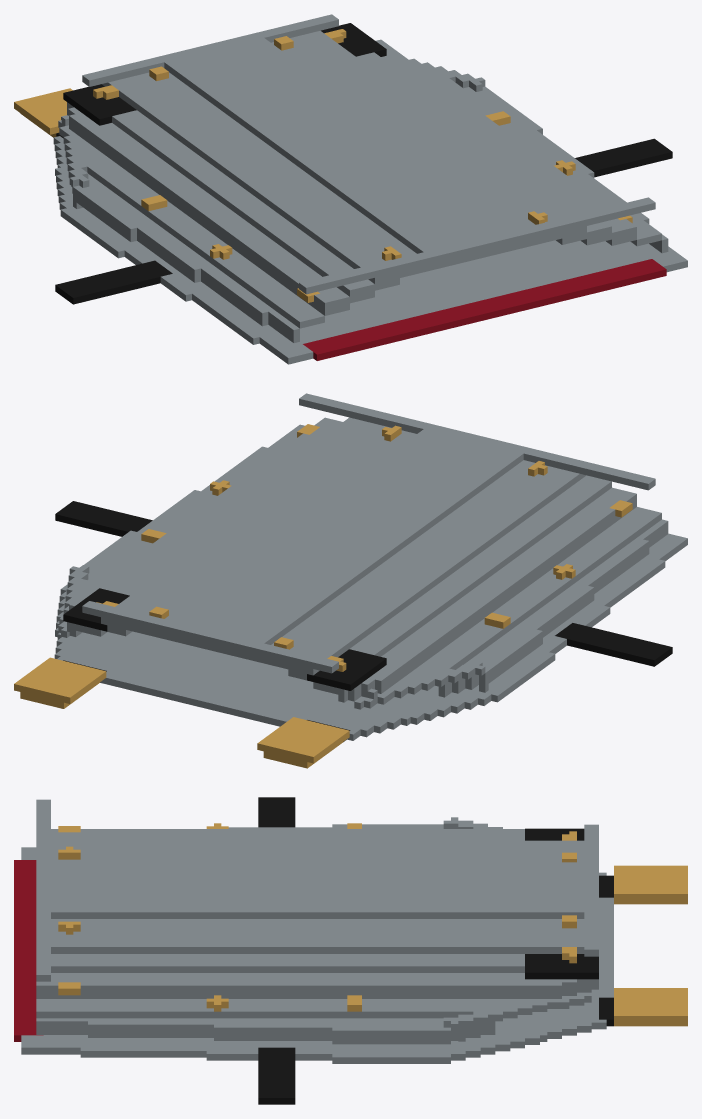
File: cuirass_lightplate.glb
The picture shows the model from 3 angles, top to bottom: view 1: azimuth 30°, elevation 25°; view 2: azimuth 150°, elevation 25°; view 3: azimuth 270°, elevation 25°; orthographic projection. The views are drawn at different scales.
Visible parts, largest first — view 1: cuirass_lightplate:compound; view 2: cuirass_lightplate:compound; view 3: cuirass_lightplate:compound.
Boxes of the visible parts, <box> form: cuirass_lightplate:compound: <box>14,14,687,364</box>; cuirass_lightplate:compound: <box>14,393,687,768</box>; cuirass_lightplate:compound: <box>14,797,687,1104</box>.
Size of the model in its own units: 0.576 by 0.06 by 0.546.
